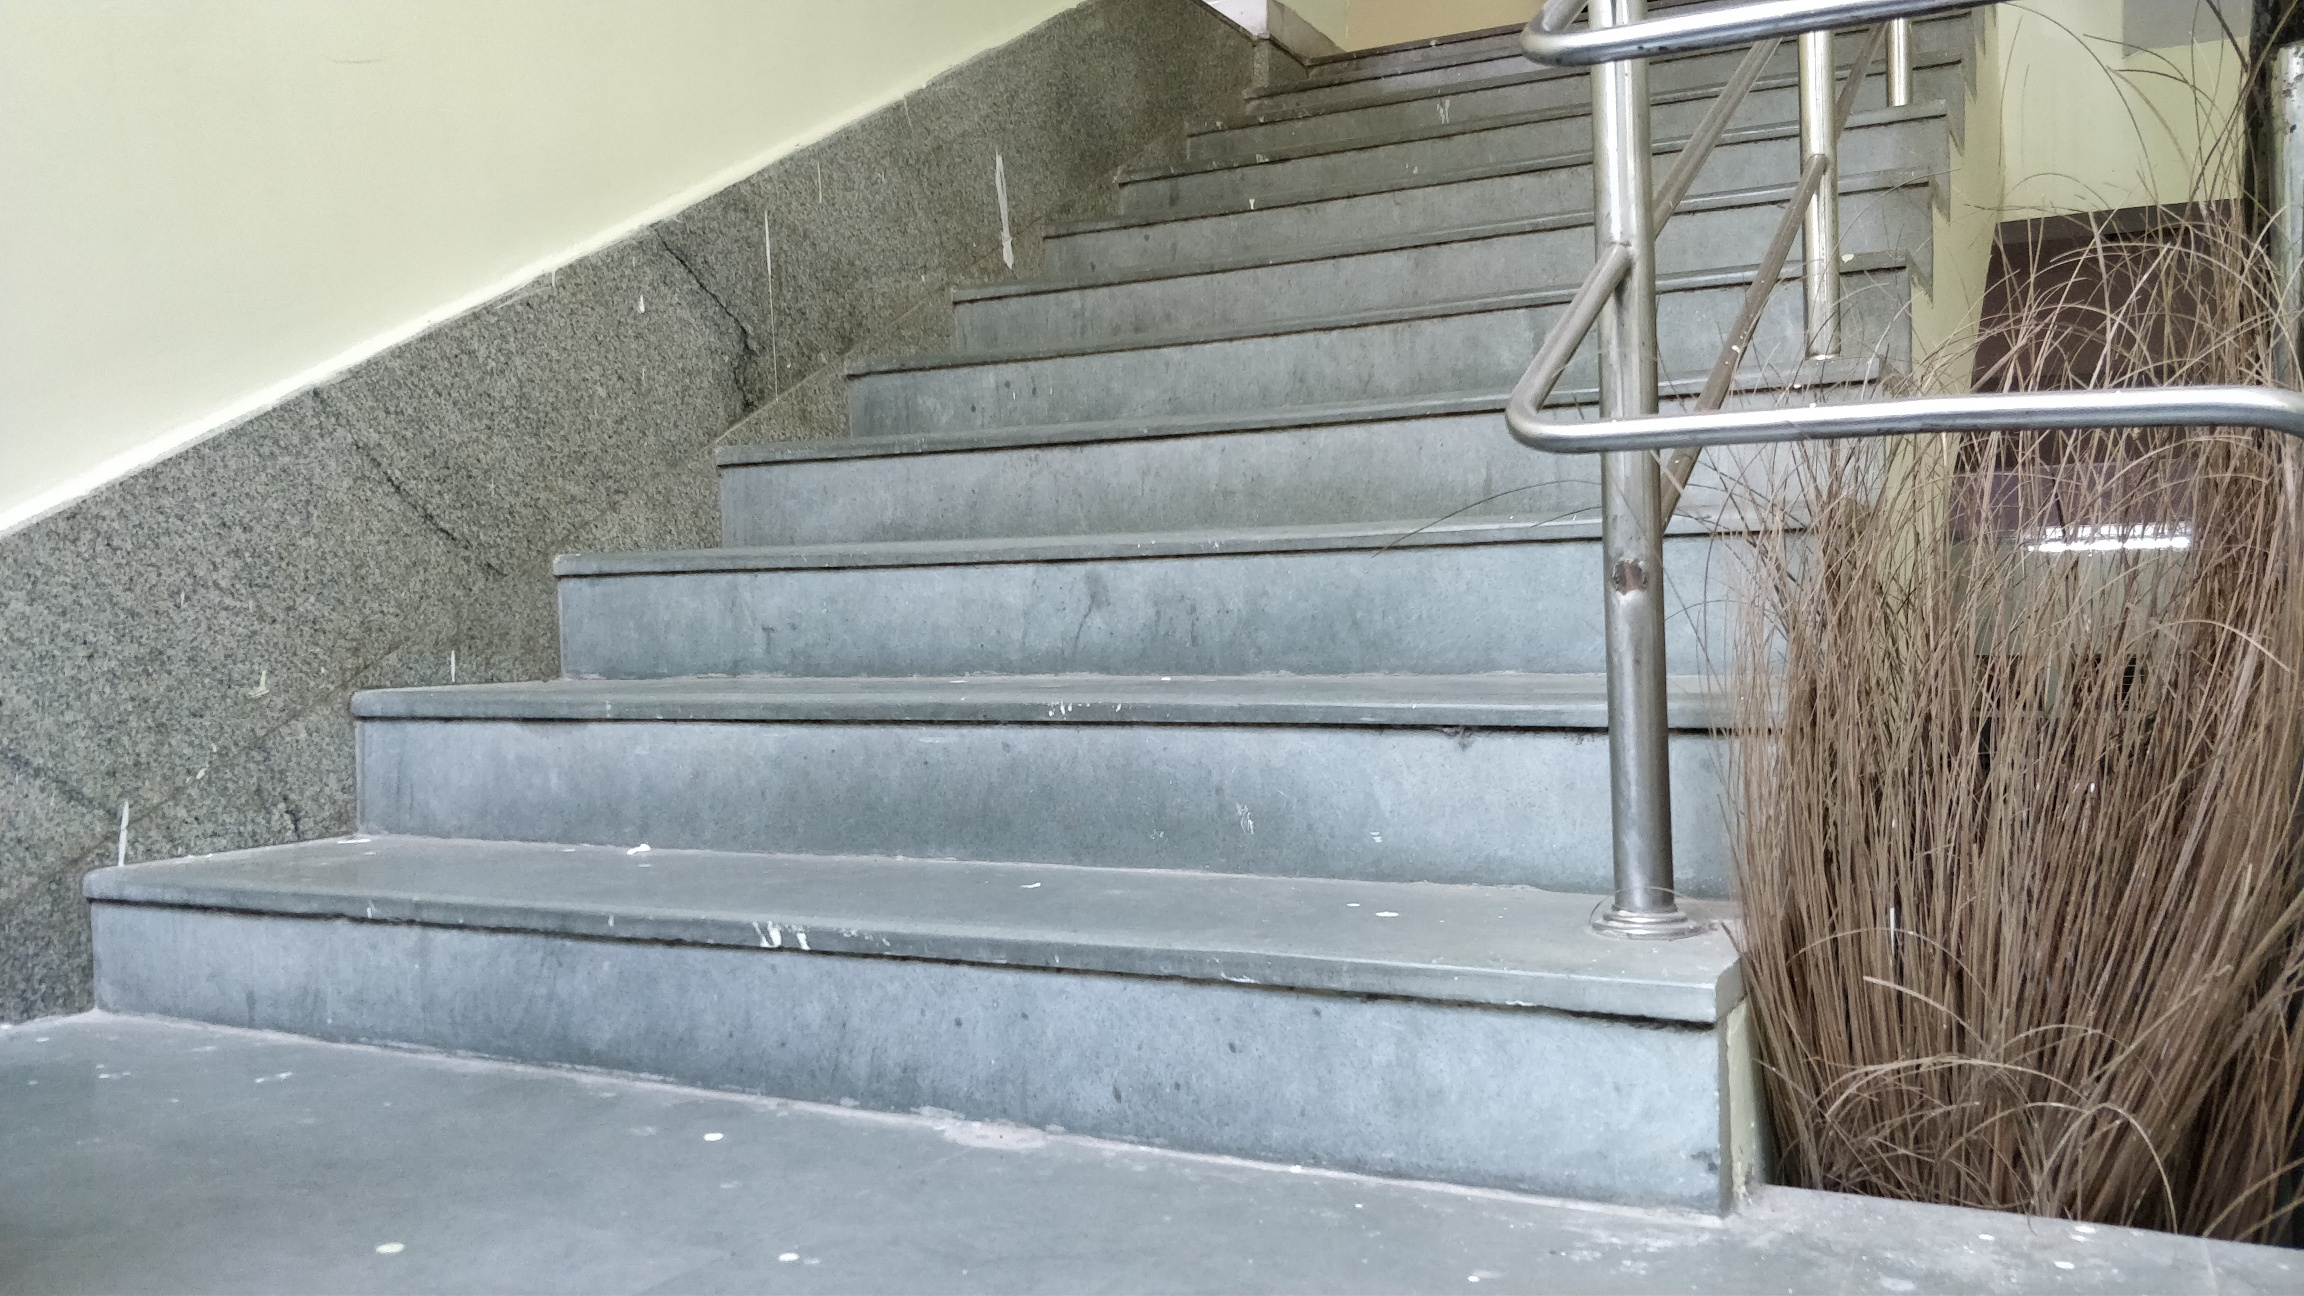stairs_up: (169, 27, 1872, 1068)
